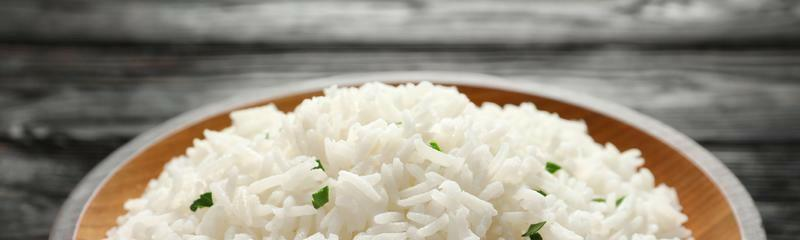WhiteRice: (102, 74, 689, 240)
